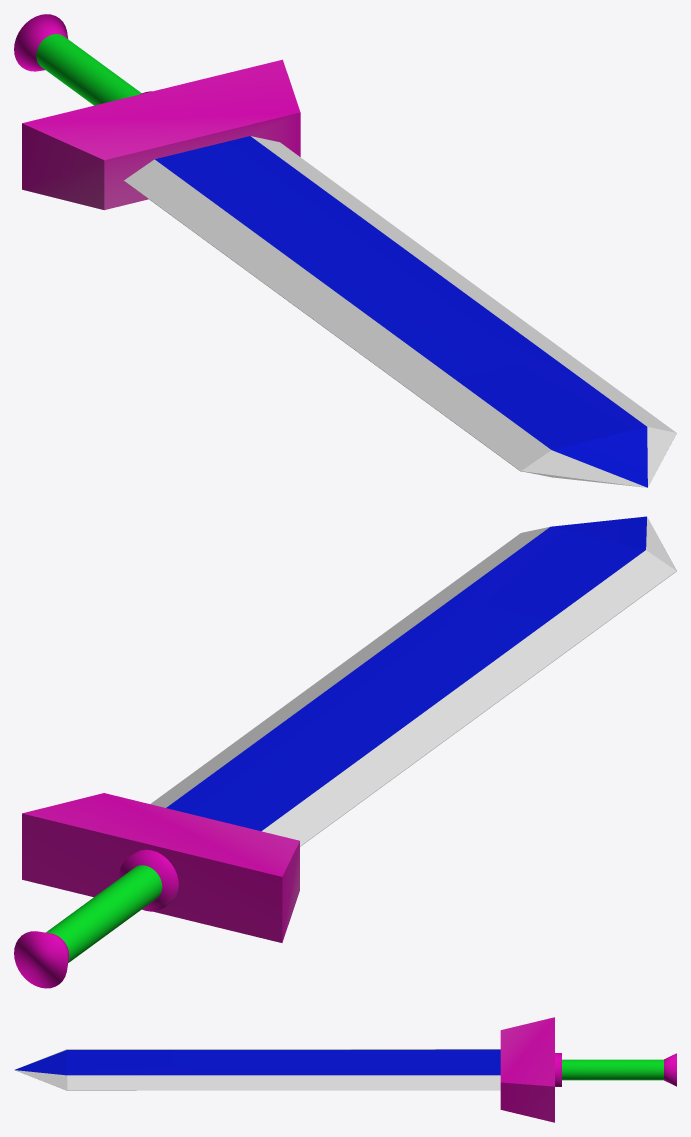
File: Sword.fbx
3 renders of one model, top to bottom at view 1: azimuth 30°, elevation 25°; view 2: azimuth 150°, elevation 25°; view 3: azimuth 270°, elevation 25°, orthographic. The views are drawn at different scales.
Parts seen in each view (by area): view 1: Cylinder; view 2: Cylinder; view 3: Cylinder.
Part boxes in pixels (left/top/right/bottom): Cylinder: left=14, top=14, right=676, bottom=487; Cylinder: left=14, top=516, right=676, bottom=988; Cylinder: left=14, top=1017, right=676, bottom=1122.
Size of the model in its own units: 0.1594 by 0.0387 by 0.6426.
